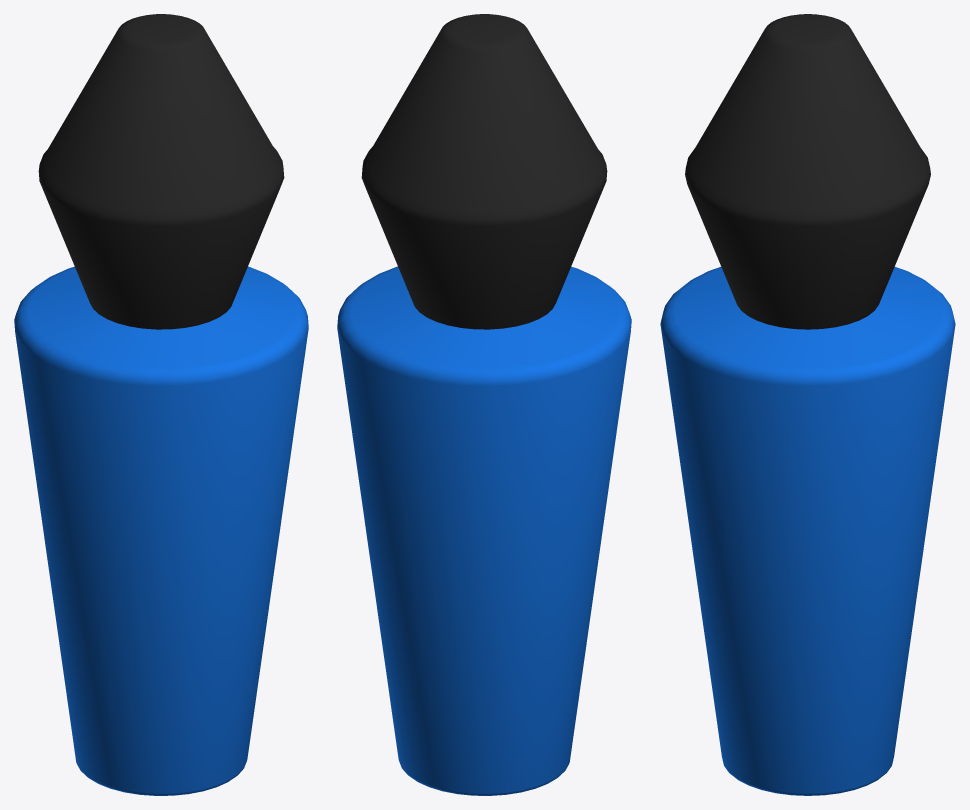
File: Bottle2.fbx
3 renders of one model, left to right at view 1: azimuth 30°, elevation 25°; view 2: azimuth 150°, elevation 25°; view 3: azimuth 270°, elevation 25°, orthographic.
Visible parts, largest first — view 1: bottle; view 2: bottle; view 3: bottle.
Part boxes in pixels (left/top/right/bottom): bottle: left=14, top=14, right=308, bottom=795; bottle: left=337, top=14, right=631, bottom=795; bottle: left=660, top=14, right=955, bottom=795.
Size of the model in its own units: 0.358 by 0.98 by 0.358.
